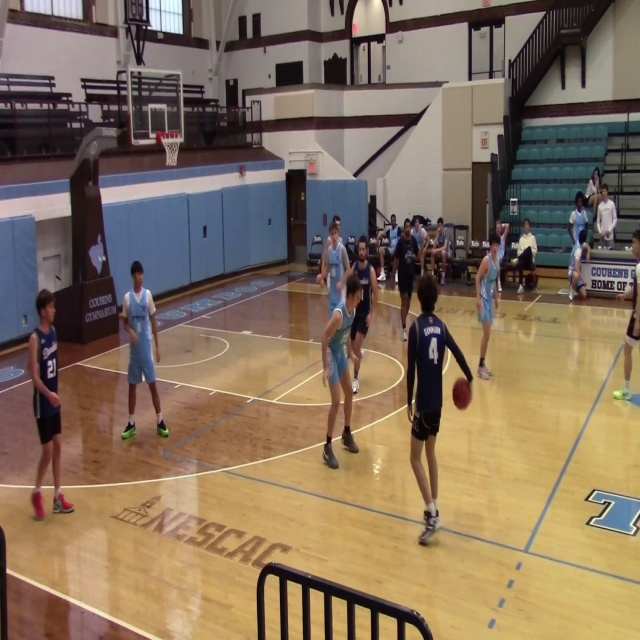Basketball: (452, 377, 471, 410)
